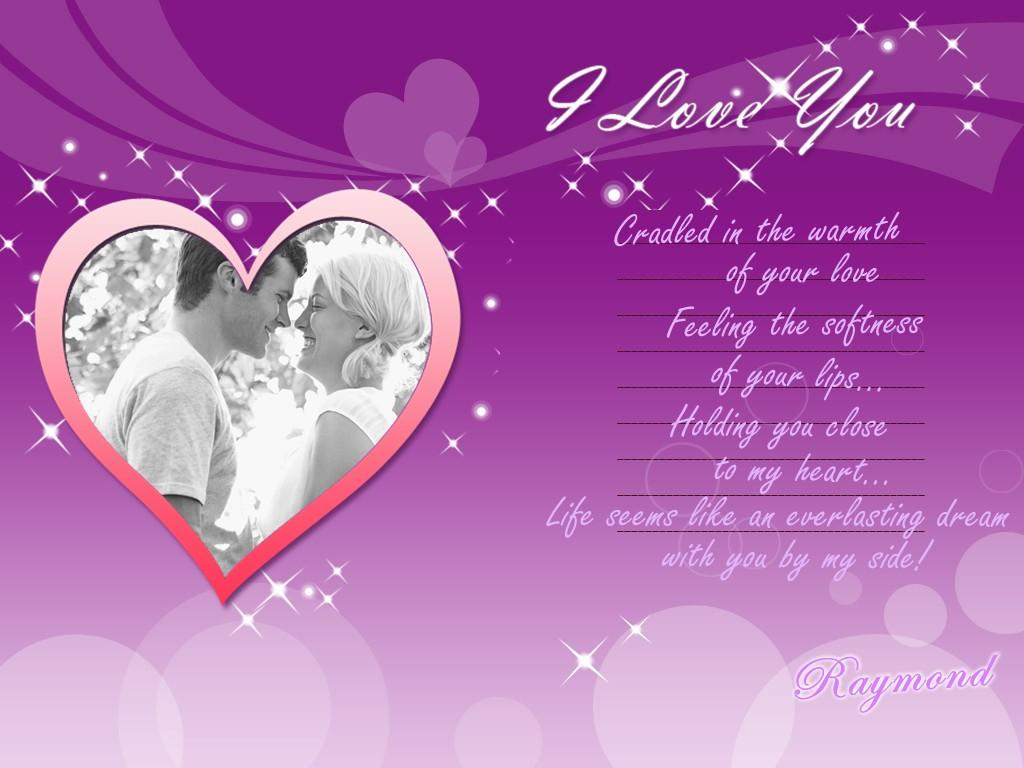face: (238, 250, 294, 358), (296, 268, 358, 364)
